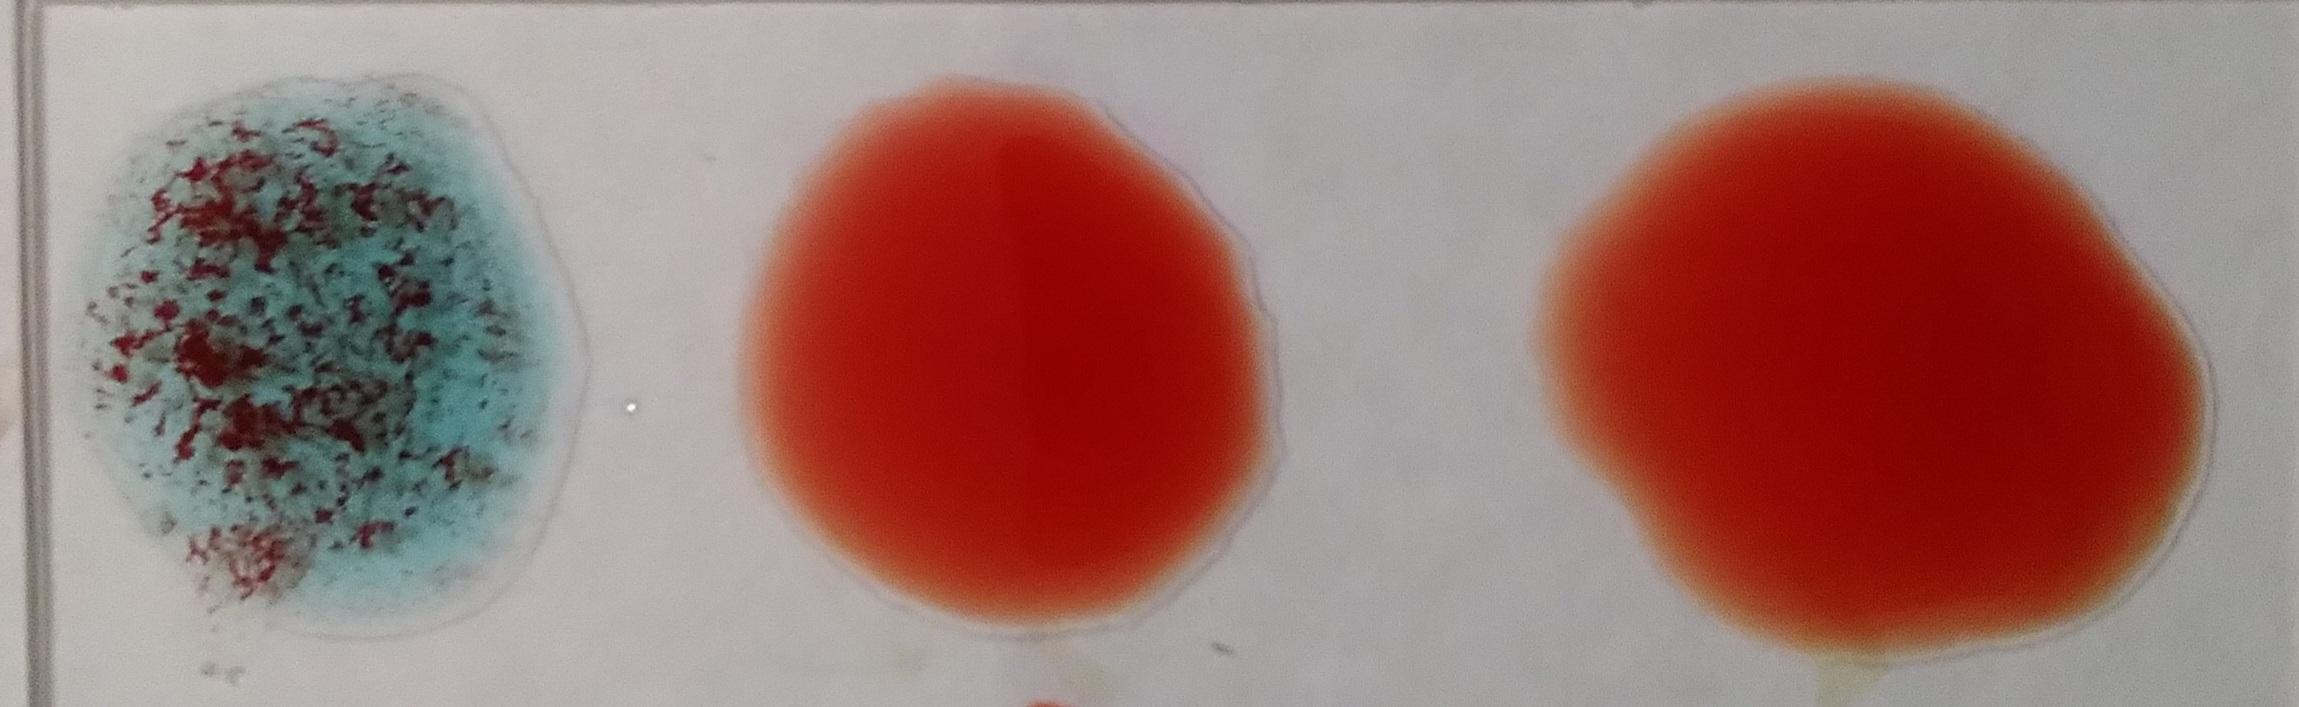A: (66, 85, 556, 625)
